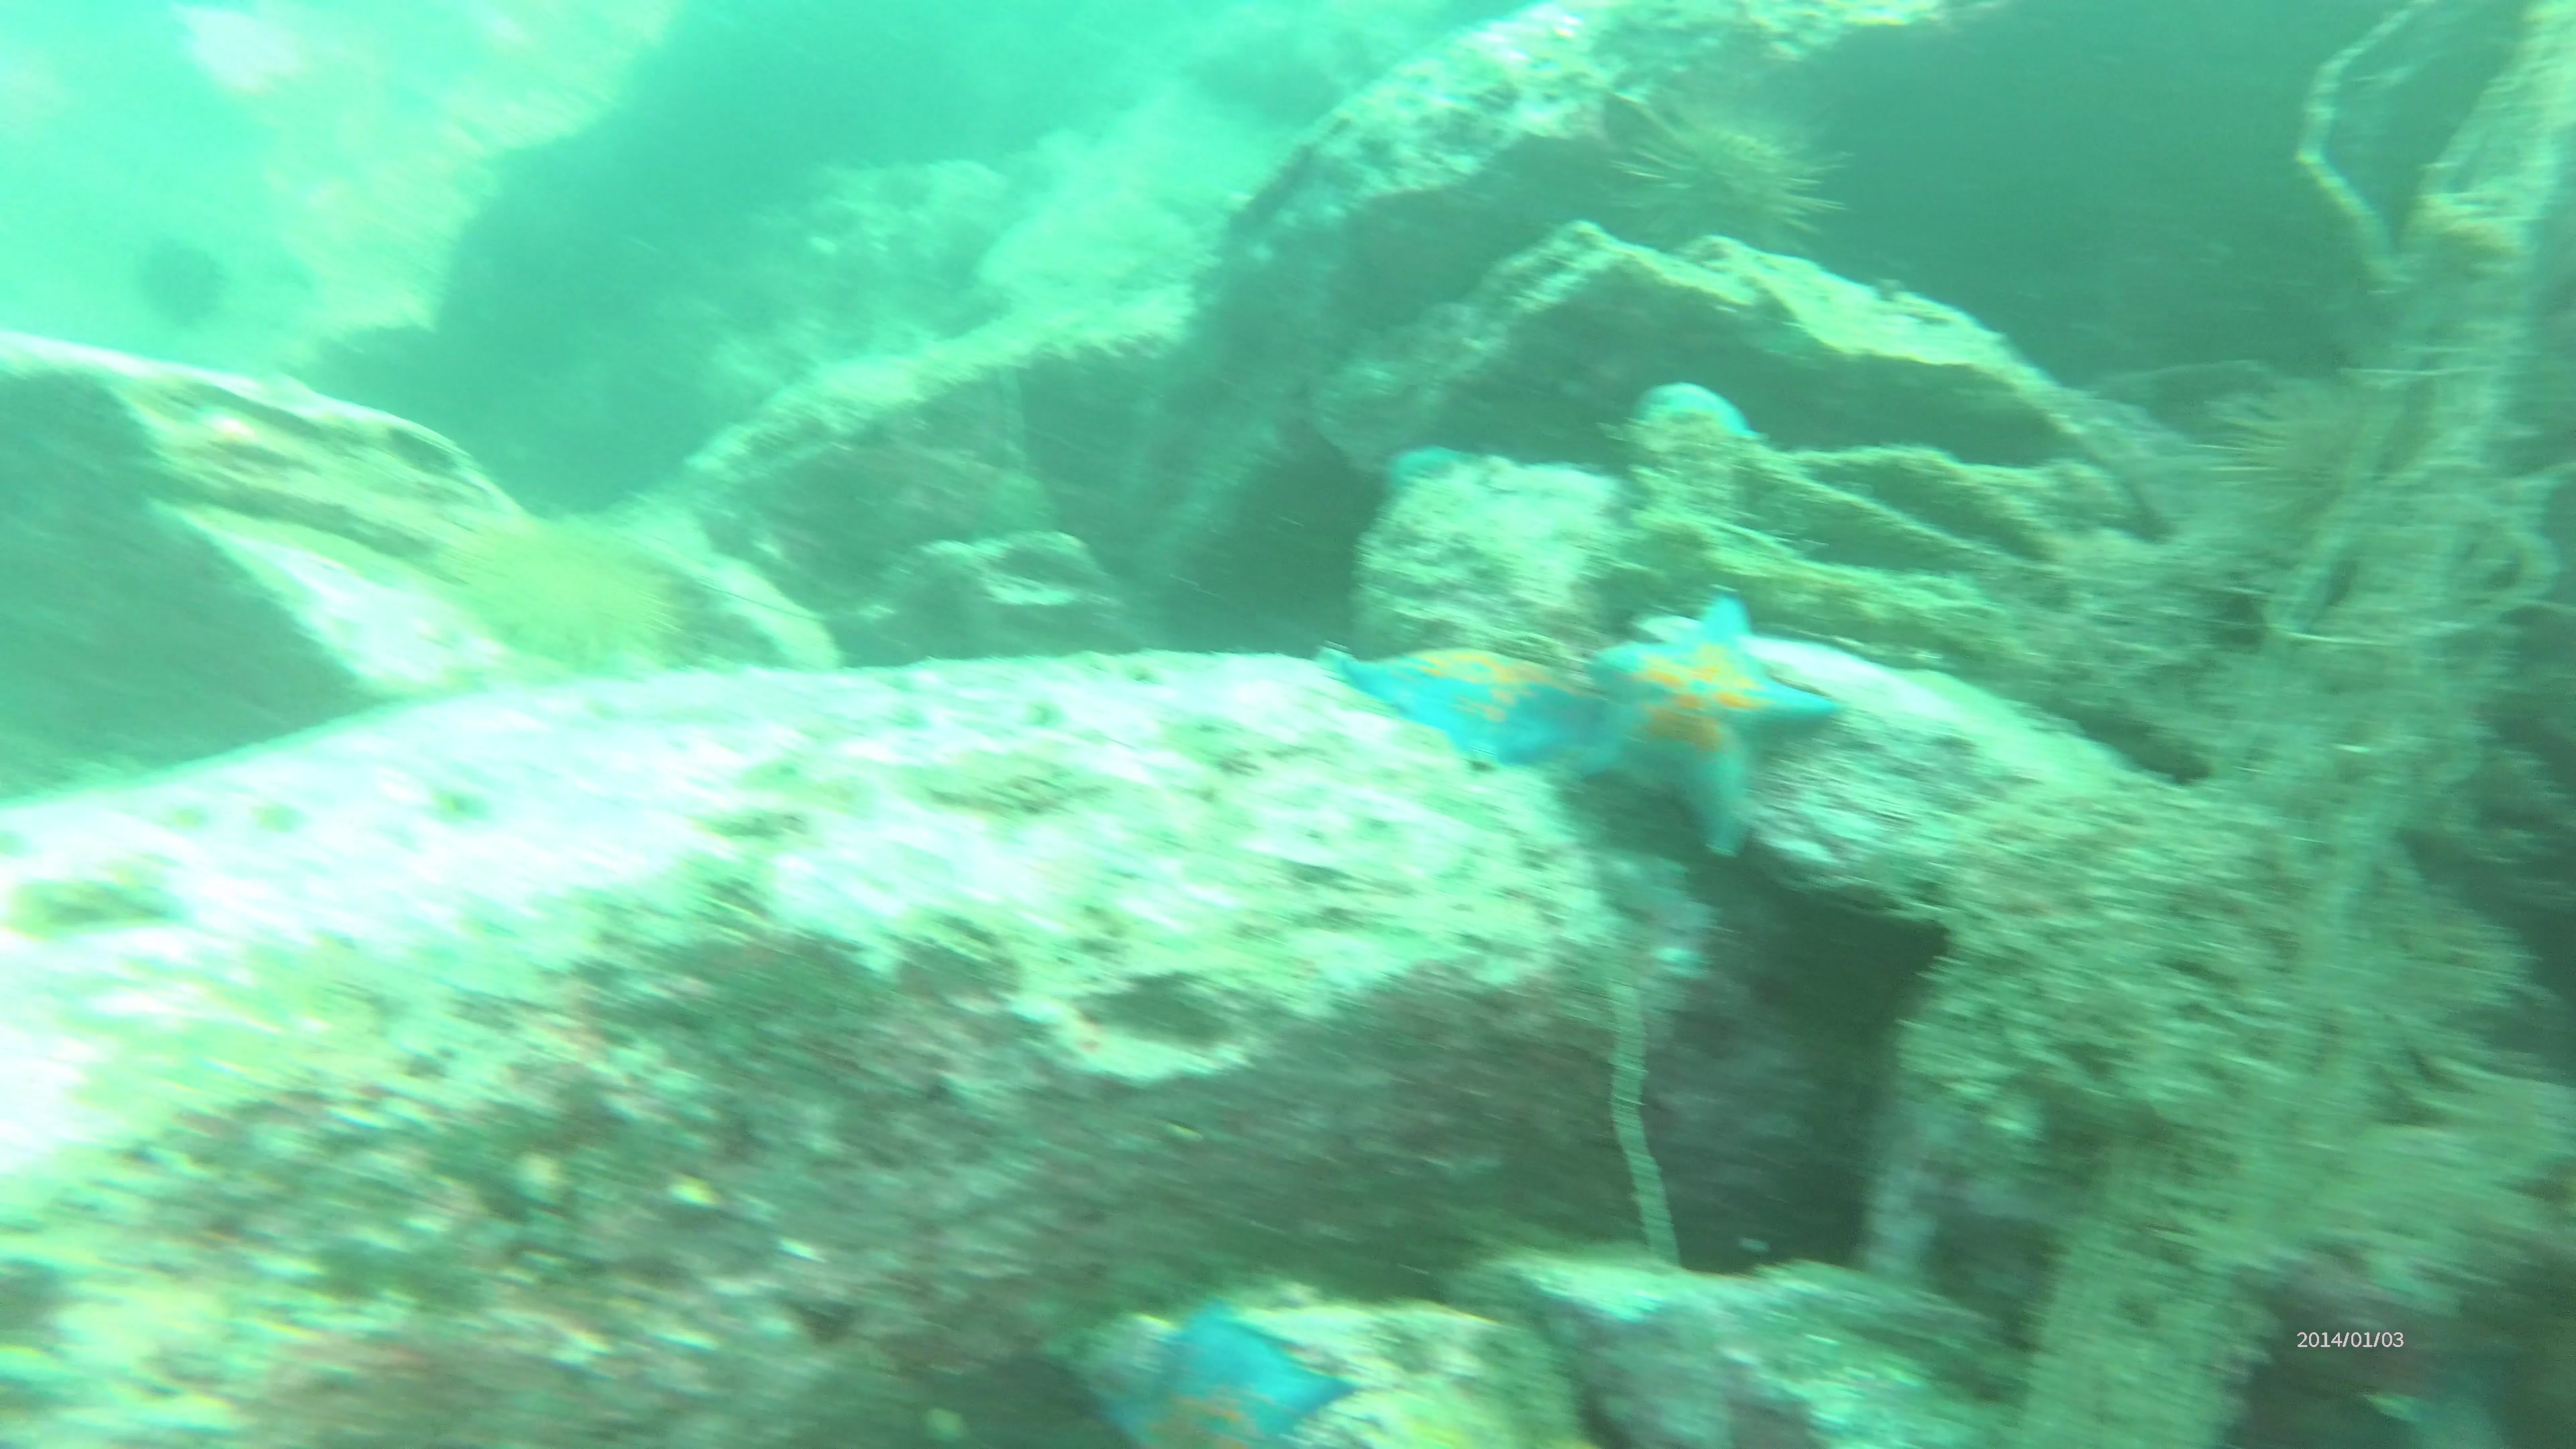echinus: (1614, 87, 1859, 274), (2203, 363, 2419, 538)
starfish: (1573, 582, 1847, 855), (1083, 1284, 1357, 1449), (1313, 630, 1614, 766), (1644, 373, 1775, 453)
